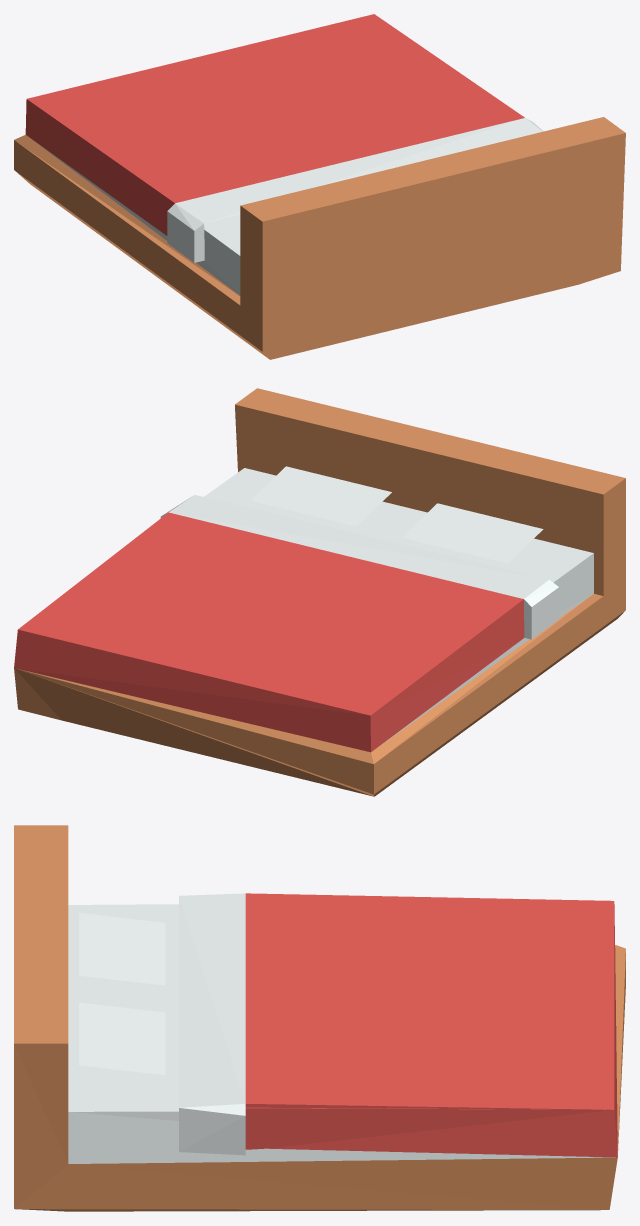
File: bedDouble_vita.obj
3 renders of one model, top to bottom at view 1: azimuth 30°, elevation 25°; view 2: azimuth 150°, elevation 25°; view 3: azimuth 270°, elevation 25°, orthographic. The views are drawn at different scales.
Bounding box in the file's own units: 0.956 × 0.35 × 1.12.
